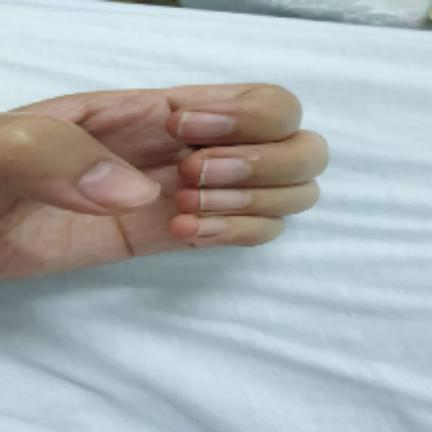Nail: (78, 161, 161, 209), (177, 112, 235, 141), (197, 158, 252, 186), (200, 189, 245, 211), (196, 220, 228, 236)
